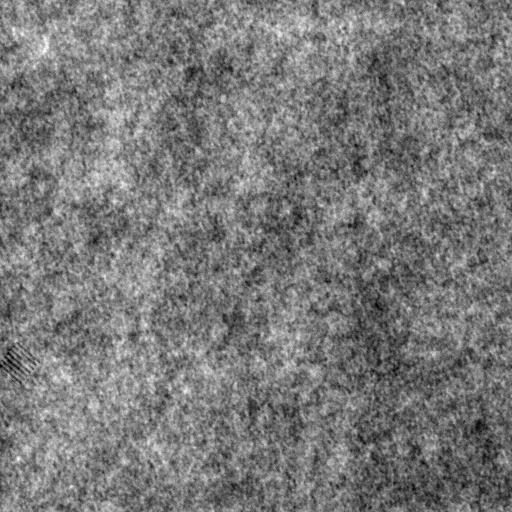DefectTypeB: (4, 341, 39, 386)
